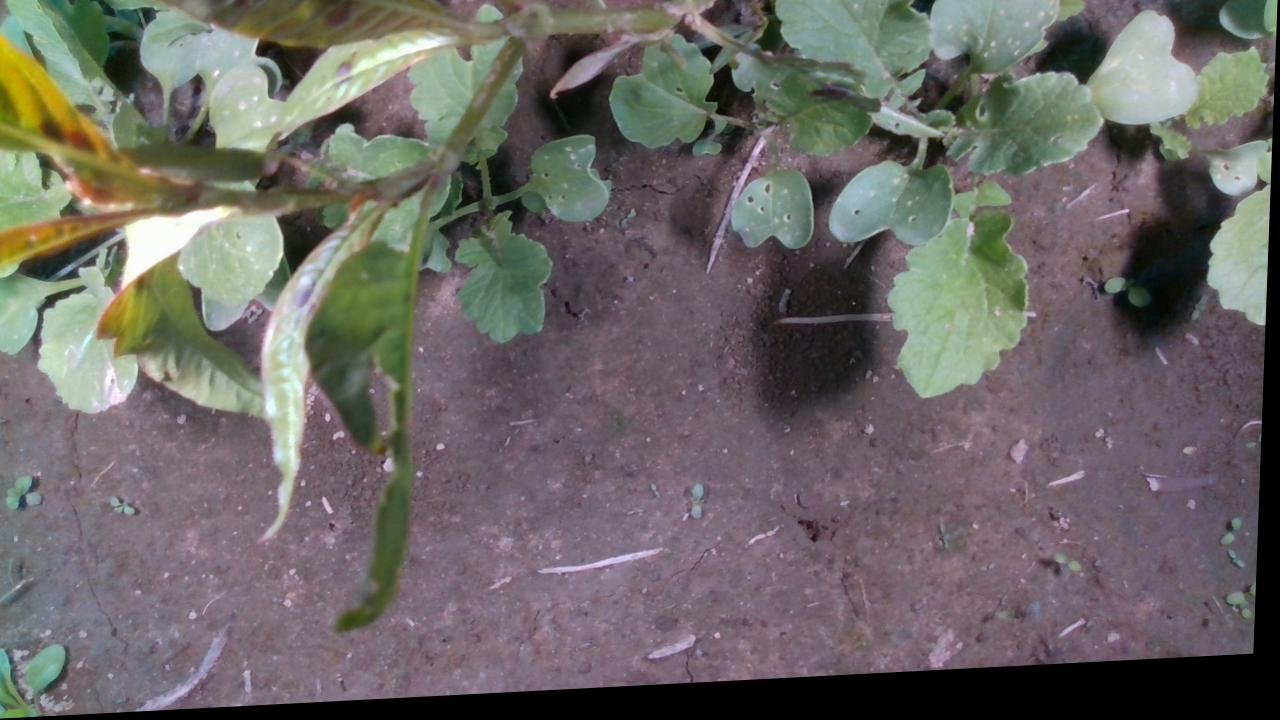weed: (1103, 285, 1153, 321), (6, 474, 47, 509), (1221, 529, 1247, 560), (1054, 561, 1086, 585), (111, 494, 140, 519), (1192, 304, 1212, 334), (692, 489, 707, 526), (939, 528, 955, 560), (1229, 559, 1249, 584)
